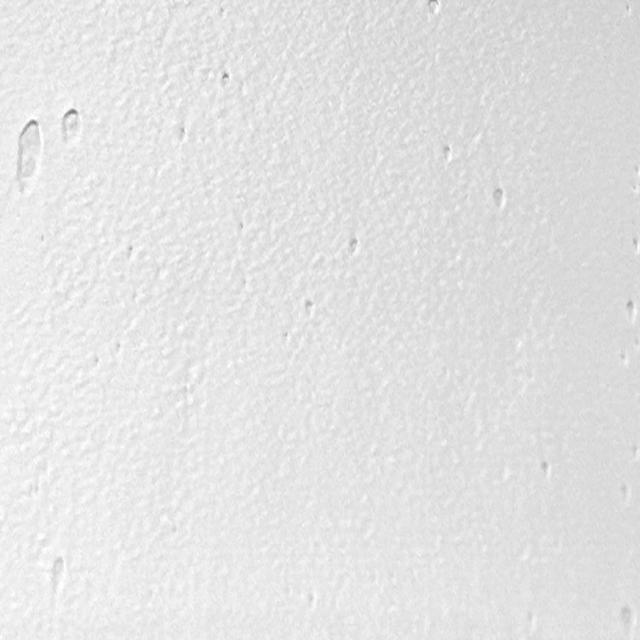pin holes: (11, 112, 51, 195), (58, 106, 85, 148), (47, 556, 69, 592), (616, 604, 638, 636), (488, 184, 508, 211), (521, 608, 541, 634), (623, 299, 640, 324), (302, 298, 319, 321), (176, 123, 192, 147), (538, 460, 554, 483), (426, 0, 444, 19), (346, 236, 363, 256), (440, 145, 456, 166), (305, 590, 319, 612), (618, 481, 631, 504), (220, 72, 234, 91), (623, 1, 636, 18), (126, 242, 136, 264), (630, 237, 639, 253), (238, 219, 246, 232), (93, 354, 101, 366), (282, 330, 290, 342), (116, 340, 120, 354)
